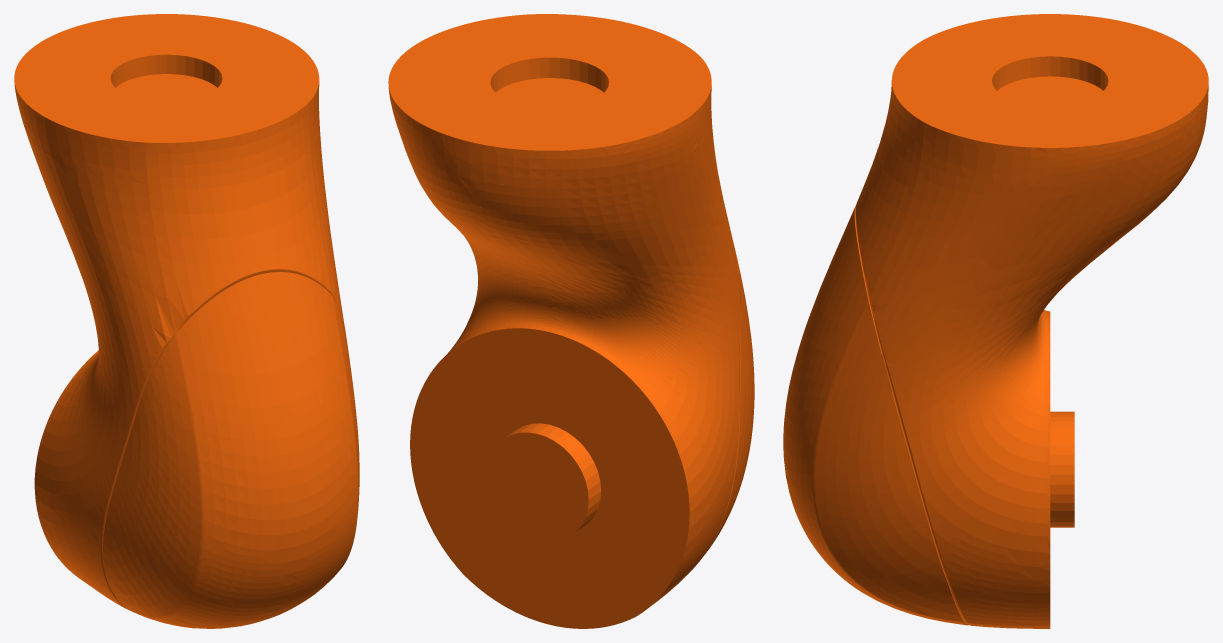
Rendered from link_2_vis.obj.
The picture shows the model from 3 angles, left to right: view 1: azimuth 30°, elevation 25°; view 2: azimuth 150°, elevation 25°; view 3: azimuth 270°, elevation 25°; orthographic projection. The views are drawn at different scales.
Visible parts, largest first — view 1: Link_2_Vis; view 2: Link_2_Vis; view 3: Link_2_Vis.
Part boxes in pixels (left/top/right/bottom): Link_2_Vis: left=14, top=14, right=359, bottom=628; Link_2_Vis: left=388, top=14, right=754, bottom=628; Link_2_Vis: left=783, top=14, right=1208, bottom=628.
Bounding box in the file's own units: 0.136 × 0.252 × 0.1826.
